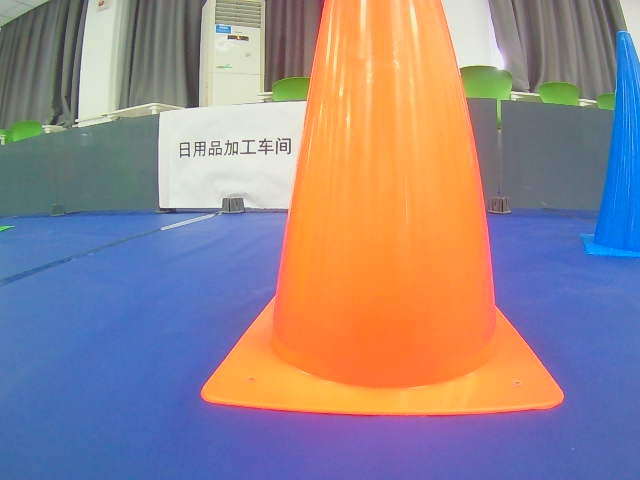target: (178, 137, 293, 160)
